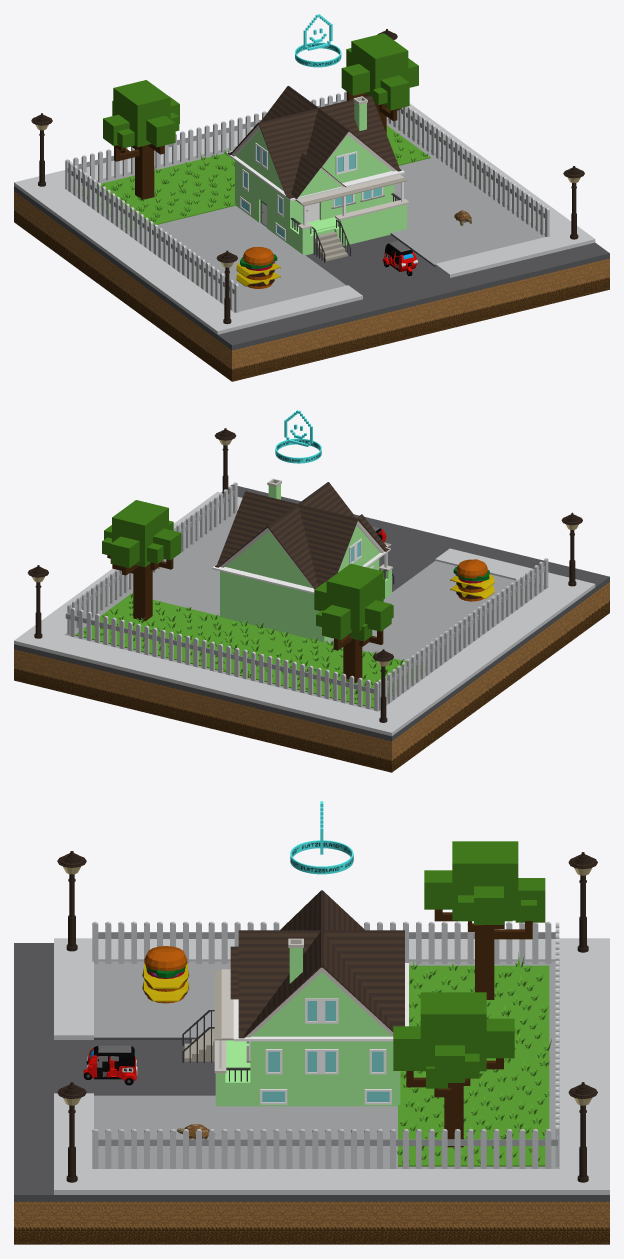
3 renders of one model, top to bottom at view 1: azimuth 30°, elevation 25°; view 2: azimuth 150°, elevation 25°; view 3: azimuth 270°, elevation 25°, orthographic. The views are drawn at different scales.
Visible parts, largest first — view 1: Cube.004, Cube.274, OBJRANDOM_HAMBURGER, TYPE_PREMIUM, VEHICLES_TUC_TUC; view 2: Cube.004, Cube.274, OBJRANDOM_HAMBURGER, TYPE_PREMIUM; view 3: Cube.004, Cube.274, OBJRANDOM_HAMBURGER, VEHICLES_TUC_TUC, TYPE_PREMIUM.
Part boxes in pixels (bbox=[...]): Cube.004: bbox=[14, 29, 609, 381]; Cube.274: bbox=[226, 86, 409, 262]; OBJRANDOM_HAMBURGER: bbox=[236, 247, 280, 288]; TYPE_PREMIUM: bbox=[295, 14, 341, 67]; VEHICLES_TUC_TUC: bbox=[382, 240, 417, 276]; Cube.004: bbox=[14, 428, 609, 772]; Cube.274: bbox=[212, 478, 394, 642]; OBJRANDOM_HAMBURGER: bbox=[450, 559, 494, 601]; TYPE_PREMIUM: bbox=[275, 410, 321, 463]; Cube.004: bbox=[14, 841, 609, 1244]; Cube.274: bbox=[182, 890, 408, 1106]; OBJRANDOM_HAMBURGER: bbox=[142, 946, 189, 1003]; VEHICLES_TUC_TUC: bbox=[83, 1045, 137, 1085]; TYPE_PREMIUM: bbox=[290, 801, 353, 874].
Size of the model in its own units: 4000 by 2466 by 4000.
43 materials, 4 textured.
